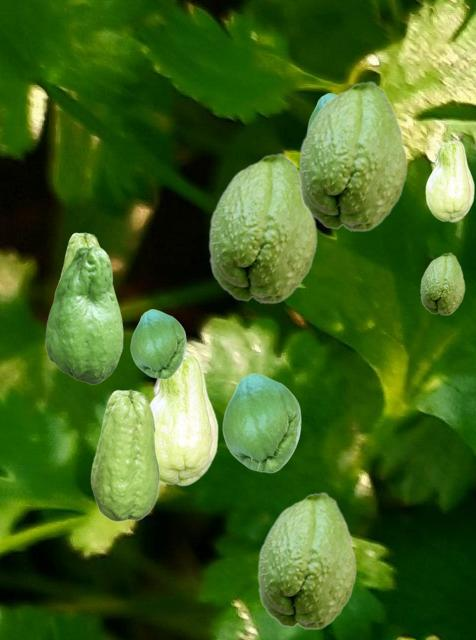sayote: (208, 152, 317, 303), (298, 80, 407, 231), (257, 491, 356, 629), (45, 245, 122, 383), (90, 389, 159, 521), (150, 353, 217, 485), (222, 373, 300, 472), (425, 140, 473, 221), (130, 309, 185, 378), (420, 252, 464, 314), (58, 232, 100, 281), (307, 93, 335, 128)
